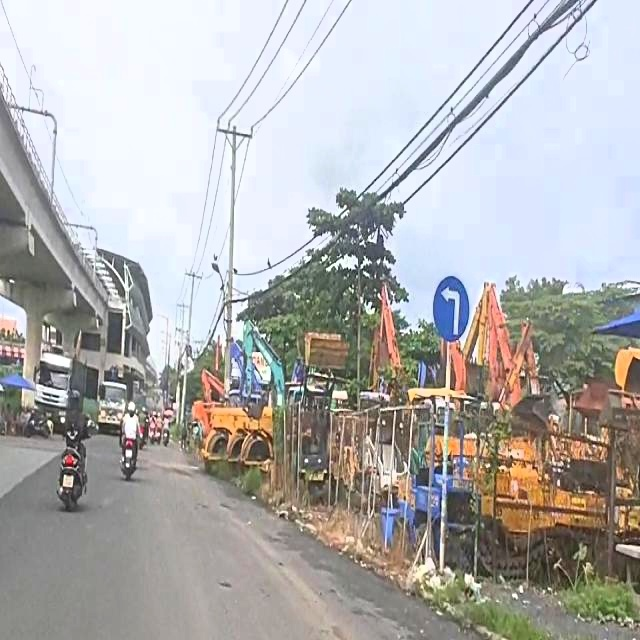R.301e: (431, 273, 469, 344)
